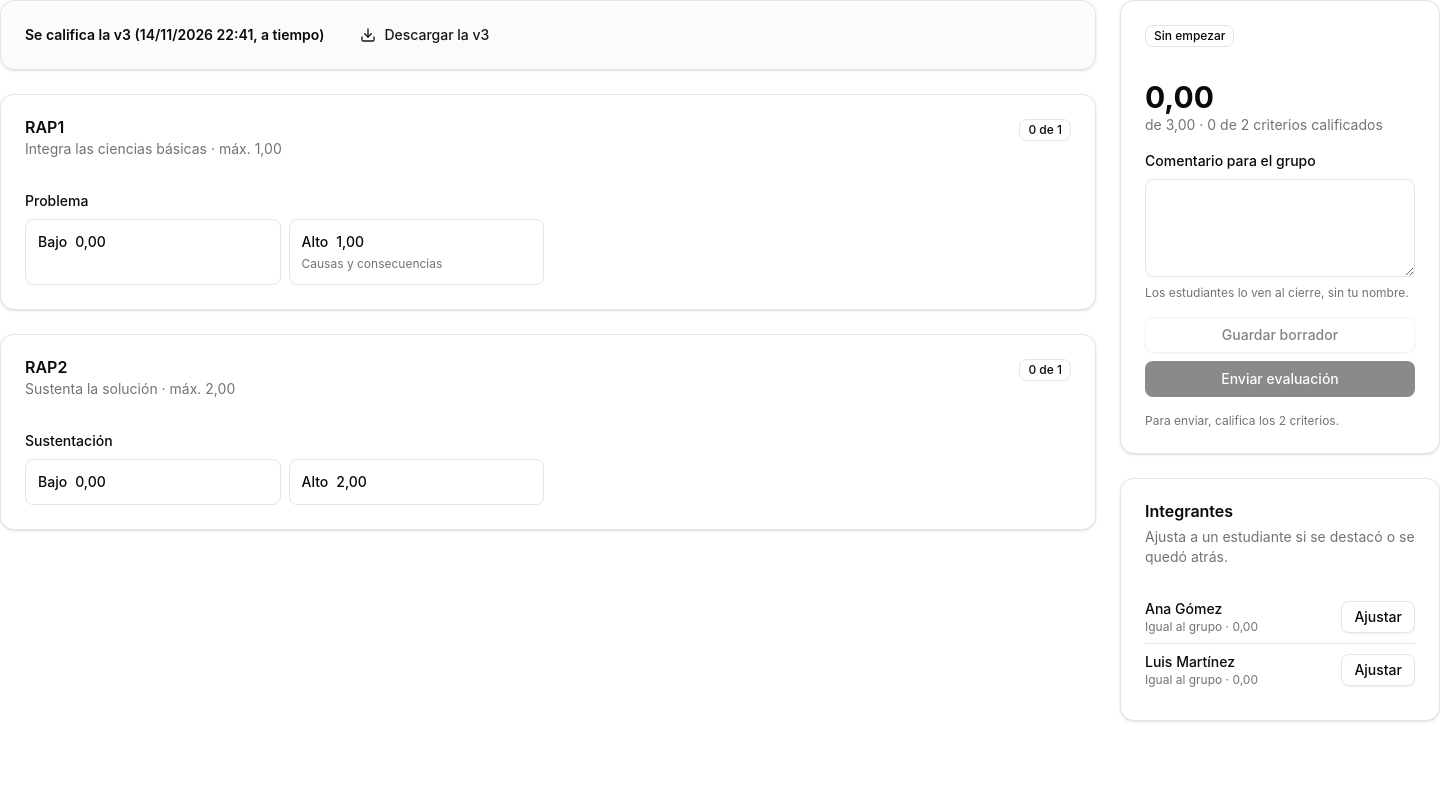
EvaluationEditor › grades the group criterion by criterion and saves a partial draft
Expected: the text "Se califica la v3 (14/11/2026 22:41, a tiempo)" is shown, [25,25,324,45]
Expected: the text "Sin empezar" is shown, [1145,25,1234,47]
Click the radio button labelled "Alto 1,00" at {"x": 416, "y": 252}, box [288,219,544,285]
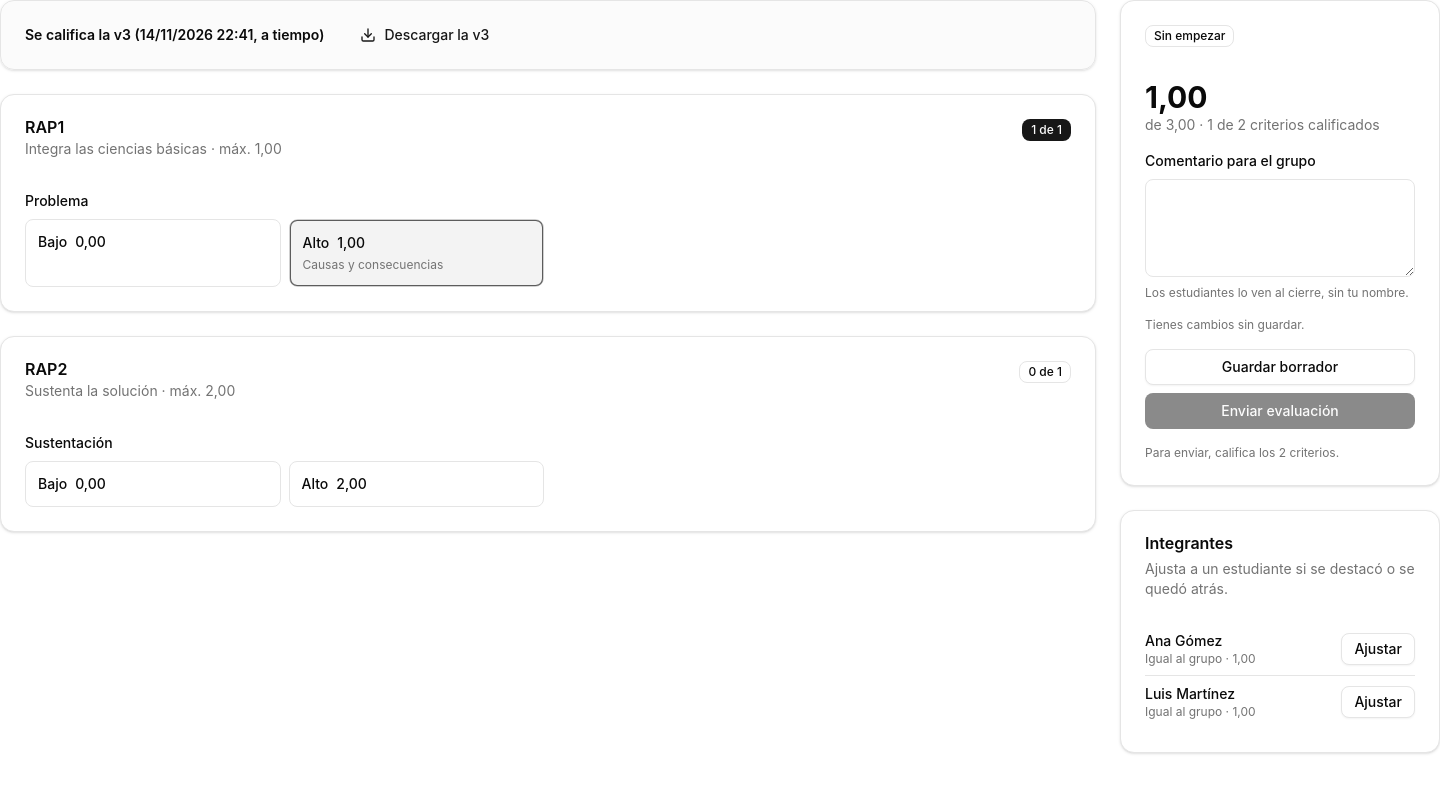
Expected: the text "Para enviar, califica los 2 criterios." is shown, [1145,445,1339,460]
Now the text named "Nota del grupo" reads "1,00", box [1145,79,1208,115]
Now the text "de 3,00 · 1 de 2 criterios calificados" is shown, box [1145,115,1415,135]
Type "Buen trabajo" into the text box labelled "Comentario para el grupo" at {"x": 1280, "y": 228}, box [1145,179,1415,277]
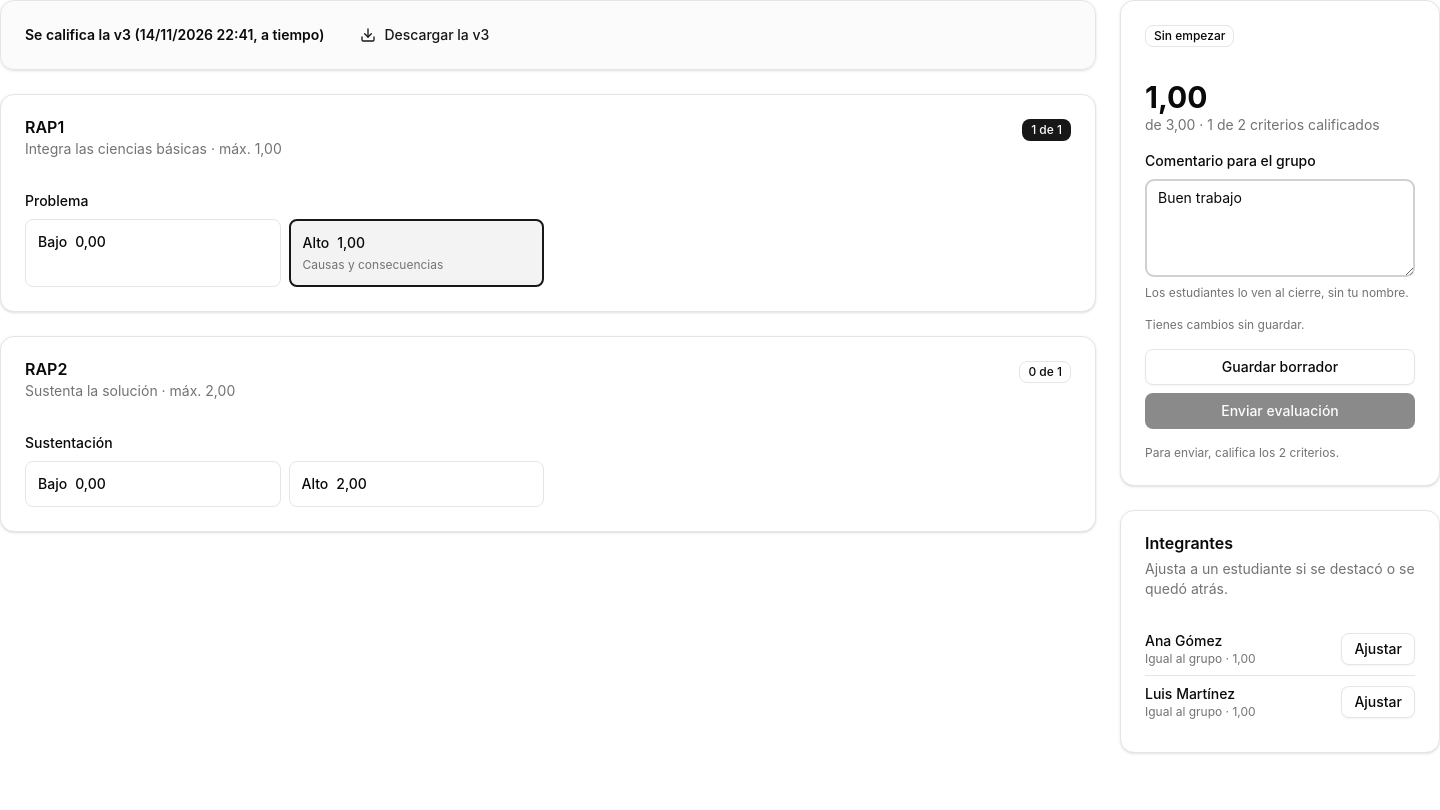
Click the button "Guardar borrador" at {"x": 1280, "y": 367}, box [1145,349,1415,385]
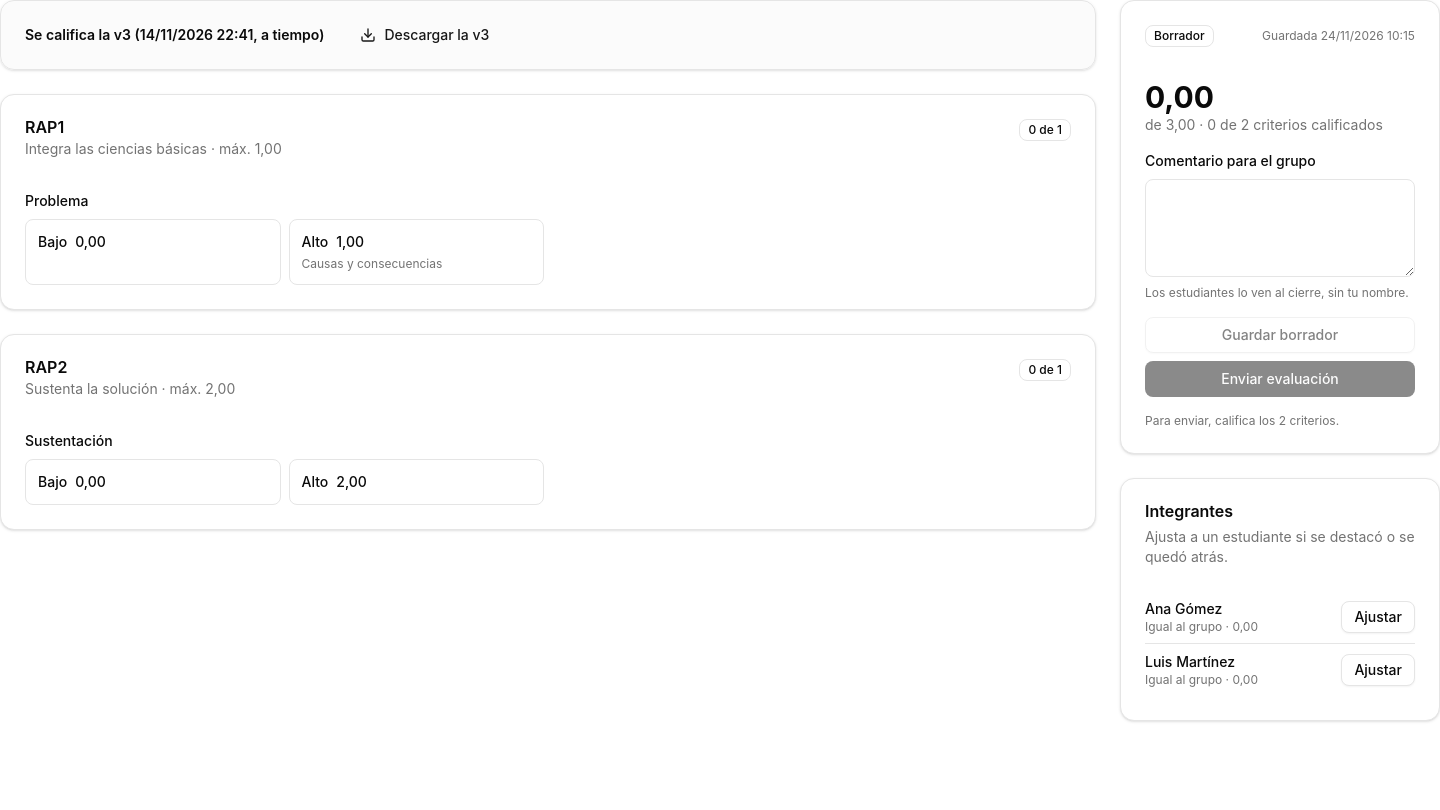
Now the text "Borrador" is shown, box [1145,25,1214,47]
